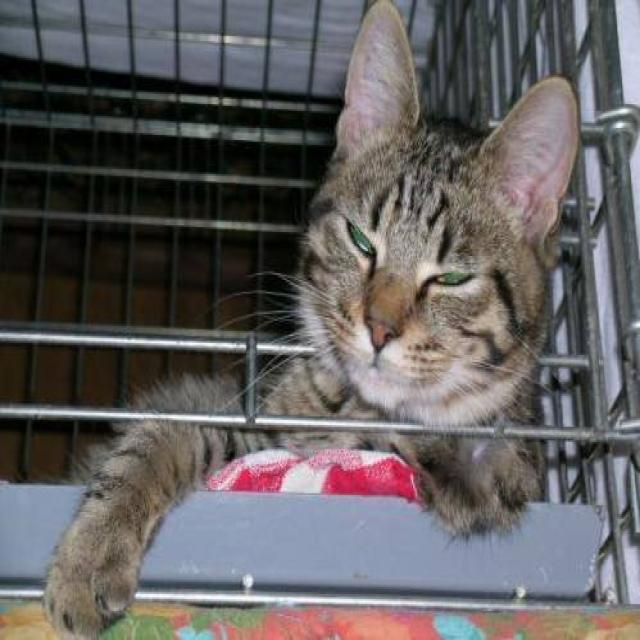cat: (39, 0, 579, 638)
